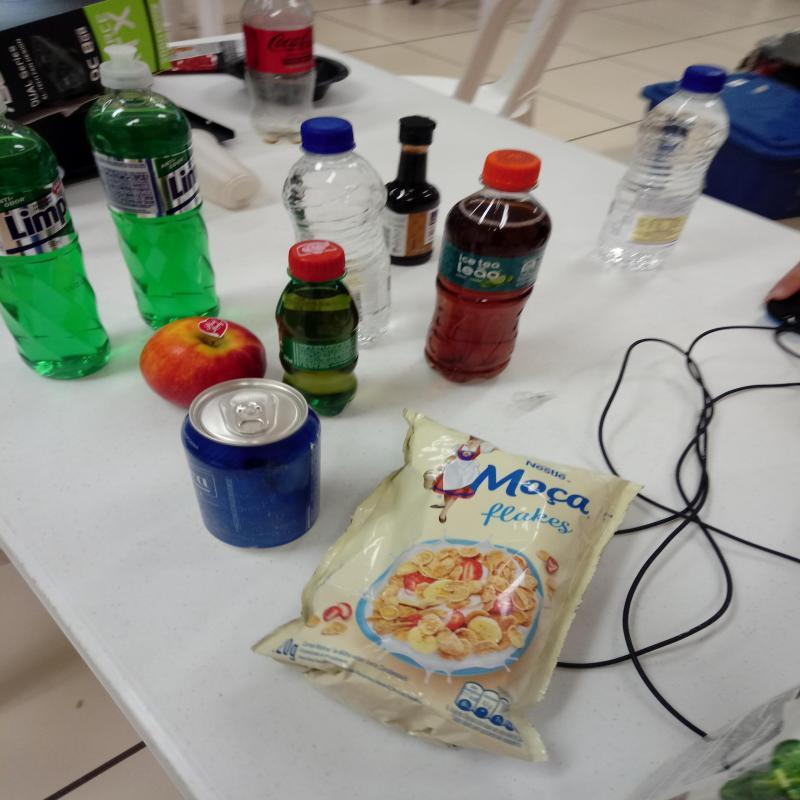Apple: (139, 320, 263, 410)
Cleaner: (86, 64, 225, 338), (1, 97, 118, 387)
CornFlakes: (263, 406, 644, 766)
EnglishSauce: (383, 122, 439, 266)
Guarana: (277, 245, 360, 415)
IceTea: (426, 151, 555, 382)
Tonic: (178, 376, 324, 555)
Water: (589, 65, 730, 280), (281, 116, 398, 346)
